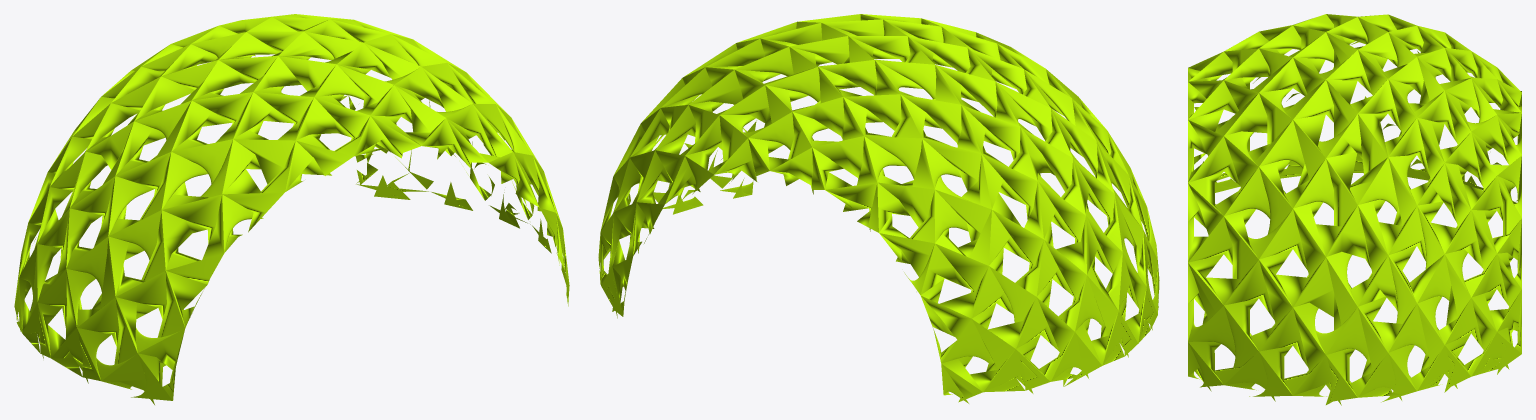
3 renders of one model, left to right at view 1: azimuth 30°, elevation 25°; view 2: azimuth 150°, elevation 25°; view 3: azimuth 270°, elevation 25°, orthographic. The views are drawn at different scales.
Parts seen in each view (by area): view 1: [0]; view 2: [0]; view 3: [0].
Boxes of the visible parts, x1,y1,x2,y2 form: [0]: (14,14,569,404); [0]: (598,14,1159,403); [0]: (1188,14,1521,405).
Bounding box in the file's own units: 2.89 × 1.46 × 1.74.
